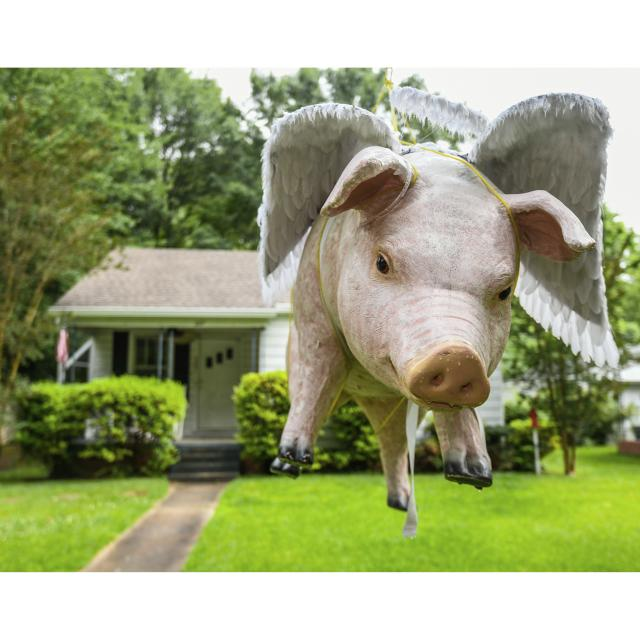pig: (279, 147, 592, 526)
